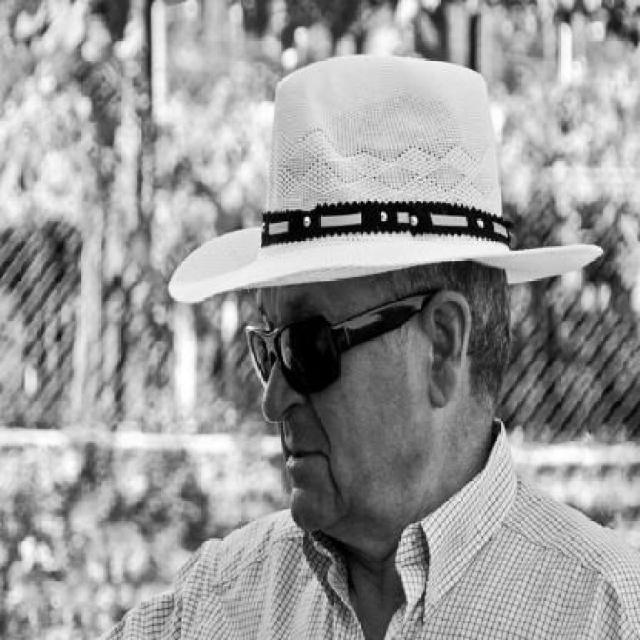face_nomask: (226, 313, 368, 490)
glasses: (250, 307, 442, 411)
head_nohelmet: (172, 65, 532, 301)
